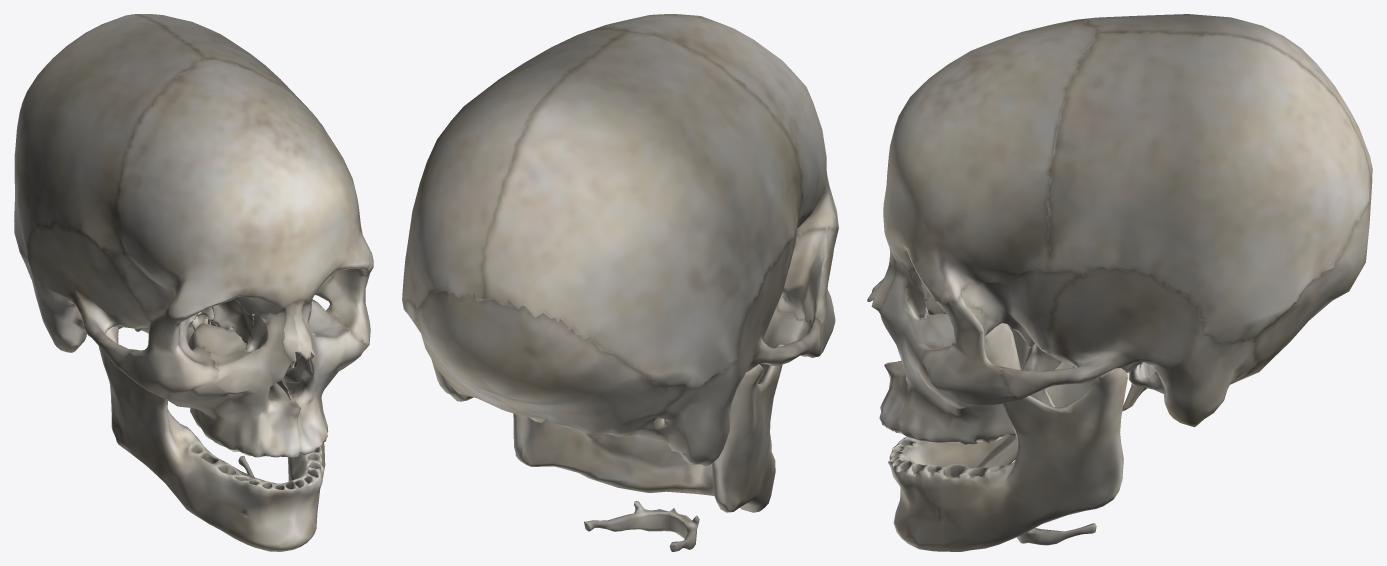
The model's file is skull.glb.
3 renders of one model, left to right at view 1: azimuth 30°, elevation 25°; view 2: azimuth 150°, elevation 25°; view 3: azimuth 270°, elevation 25°, orthographic. The views are drawn at different scales.
Parts seen in each view (by area): view 1: Frontal_bone, Right_parietal_bone, Mandible, Right_maxilla, Right_temporal_bone, Left_maxilla, Right_zygomatic_bone, Left_parietal_bone, Sphenoid, Left_zygomatic_bone, Ethmoid, Right_nasal_bone (+2 smaller); view 2: Right_parietal_bone, Occipital_bone, Left_parietal_bone, Mandible, Frontal_bone, Right_temporal_bone, Right_zygomatic_bone, Hyoid_bone, Right_maxilla; view 3: Left_parietal_bone, Frontal_bone, Mandible, Left_temporal_bone, Left_maxilla, Sphenoid, Left_zygomatic_bone, Occipital_bone, Right_parietal_bone, Hyoid_bone, Left_lacrimal_bone, Left_nasal_bone.
Boxes of the visible parts, bbox=[...] form: Frontal_bone: bbox=[116, 59, 373, 319]; Right_parietal_bone: bbox=[14, 14, 206, 259]; Mandible: bbox=[98, 327, 325, 551]; Right_maxilla: bbox=[166, 307, 301, 457]; Right_temporal_bone: bbox=[19, 222, 152, 366]; Left_maxilla: bbox=[275, 299, 367, 454]; Right_zygomatic_bone: bbox=[117, 309, 219, 399]; Left_parietal_bone: bbox=[135, 14, 316, 117]; Sphenoid: bbox=[102, 247, 334, 342]; Left_zygomatic_bone: bbox=[315, 267, 373, 346]; Ethmoid: bbox=[211, 299, 254, 349]; Right_nasal_bone: bbox=[283, 301, 309, 363]; Right_parietal_bone: bbox=[481, 30, 802, 387]; Occipital_bone: bbox=[403, 289, 688, 441]; Left_parietal_bone: bbox=[402, 27, 629, 310]; Mandible: bbox=[513, 344, 783, 512]; Frontal_bone: bbox=[592, 14, 838, 234]; Right_temporal_bone: bbox=[654, 238, 821, 465]; Right_zygomatic_bone: bbox=[776, 226, 838, 356]; Hyoid_bone: bbox=[584, 501, 699, 551]; Right_maxilla: bbox=[757, 296, 812, 383]; Left_parietal_bone: bbox=[1046, 31, 1370, 344]; Frontal_bone: bbox=[883, 19, 1097, 304]; Mandible: bbox=[888, 361, 1127, 551]; Left_temporal_bone: bbox=[999, 266, 1259, 427]; Left_maxilla: bbox=[878, 248, 1021, 445]; Sphenoid: bbox=[961, 269, 1083, 406]; Left_zygomatic_bone: bbox=[922, 294, 1020, 407]; Occipital_bone: bbox=[1230, 168, 1372, 384]; Right_parietal_bone: bbox=[1074, 14, 1372, 182]; Hyoid_bone: bbox=[1017, 523, 1096, 545]; Left_lacrimal_bone: bbox=[906, 270, 928, 319]; Left_nasal_bone: bbox=[867, 248, 895, 310].
Size of the model in its own units: 0.1422 by 0.2271 by 0.2055.
Materials: 23 (23 with a texture image).
